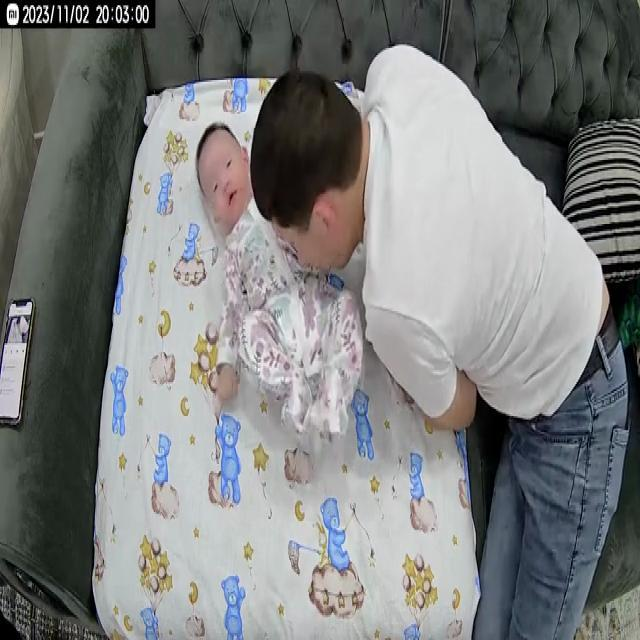baby: (194, 122, 364, 446)
